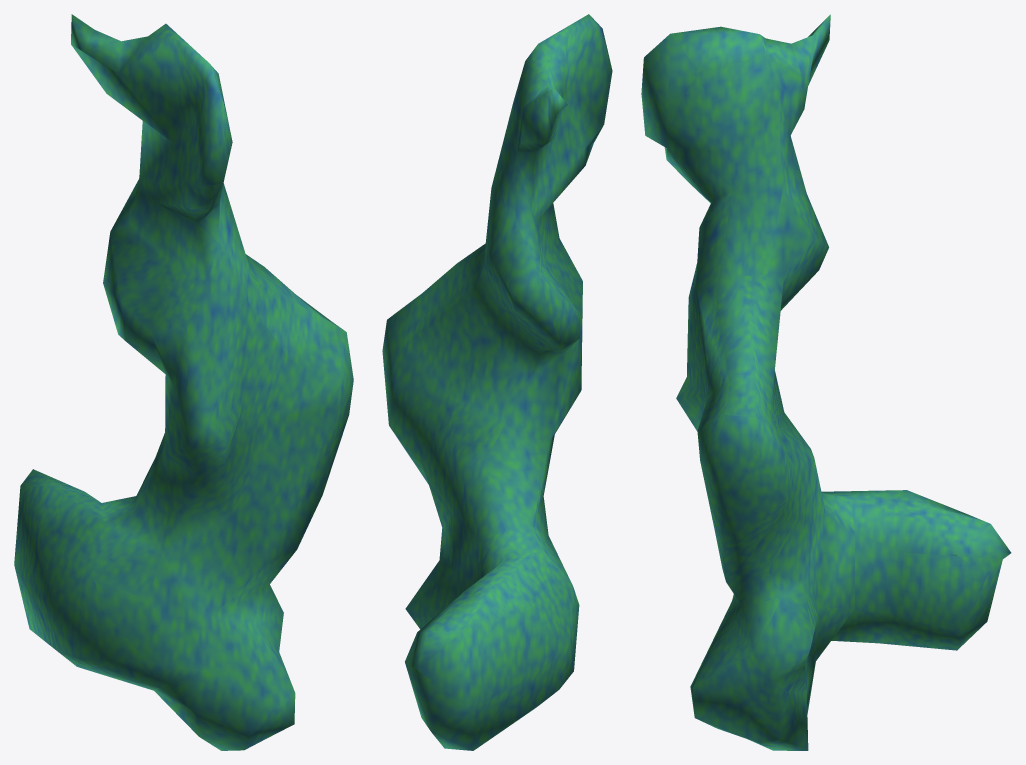
File: my_mesh_Coral 6 Watertight Fixed Small.glb
The picture shows the model from 3 angles, left to right: view 1: azimuth 30°, elevation 25°; view 2: azimuth 150°, elevation 25°; view 3: azimuth 270°, elevation 25°; orthographic projection. The views are drawn at different scales.
Visible parts, largest first — view 1: Coral 6 Watertight Fixed Small; view 2: Coral 6 Watertight Fixed Small; view 3: Coral 6 Watertight Fixed Small.
Part boxes in pixels (left/top/right/bottom): Coral 6 Watertight Fixed Small: left=14, top=14, right=353, bottom=750; Coral 6 Watertight Fixed Small: left=382, top=14, right=612, bottom=750; Coral 6 Watertight Fixed Small: left=641, top=14, right=1011, bottom=750.
Size of the model in its own units: 99.79 by 296 by 144.
Materials: 1 (1 with a texture image).
